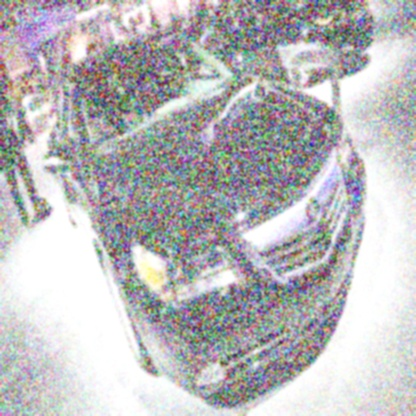Vehicle: (42, 23, 373, 410)
